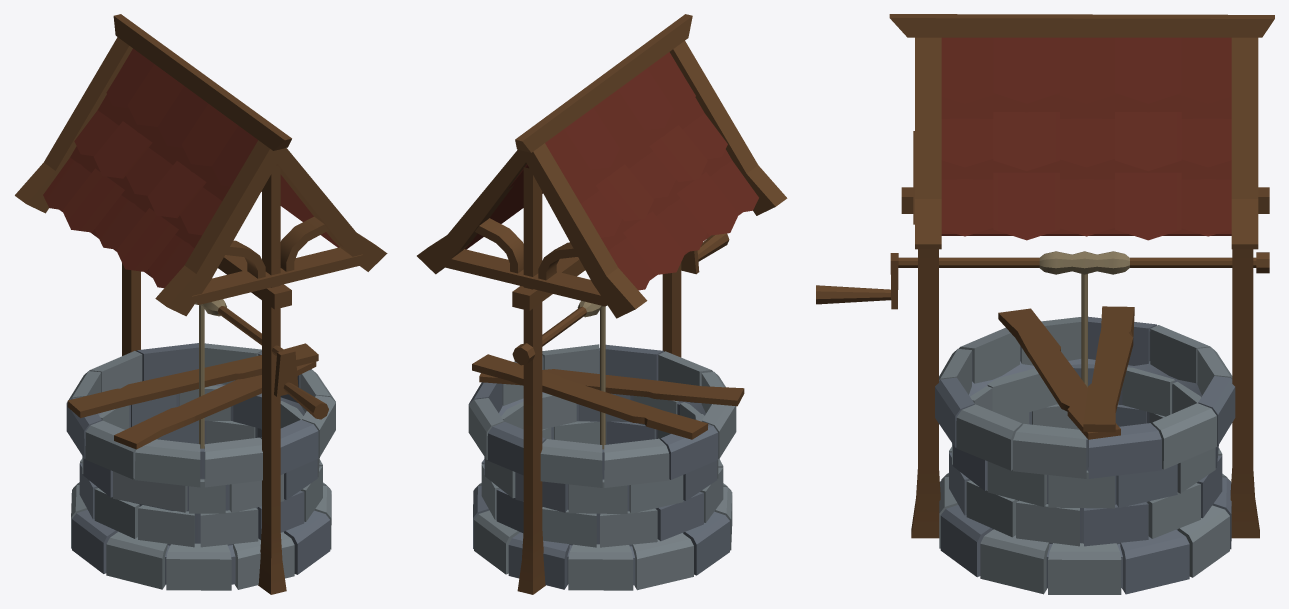
The model's file is Well.glb.
The picture shows the model from 3 angles, left to right: view 1: azimuth 30°, elevation 25°; view 2: azimuth 150°, elevation 25°; view 3: azimuth 270°, elevation 25°; orthographic projection. The views are drawn at different scales.
Visible parts, largest first — view 1: Well; view 2: Well; view 3: Well.
Part boxes in pixels (left/top/right/bottom): Well: left=15, top=14, right=387, bottom=594; Well: left=417, top=14, right=787, bottom=594; Well: left=816, top=14, right=1274, bottom=594.
Size of the model in its own units: 0.6664 by 1.25 by 1.
